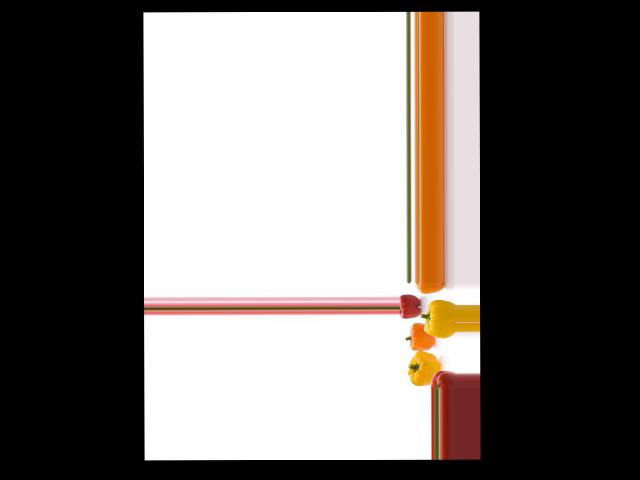bell_pepper: (414, 280, 445, 295)
